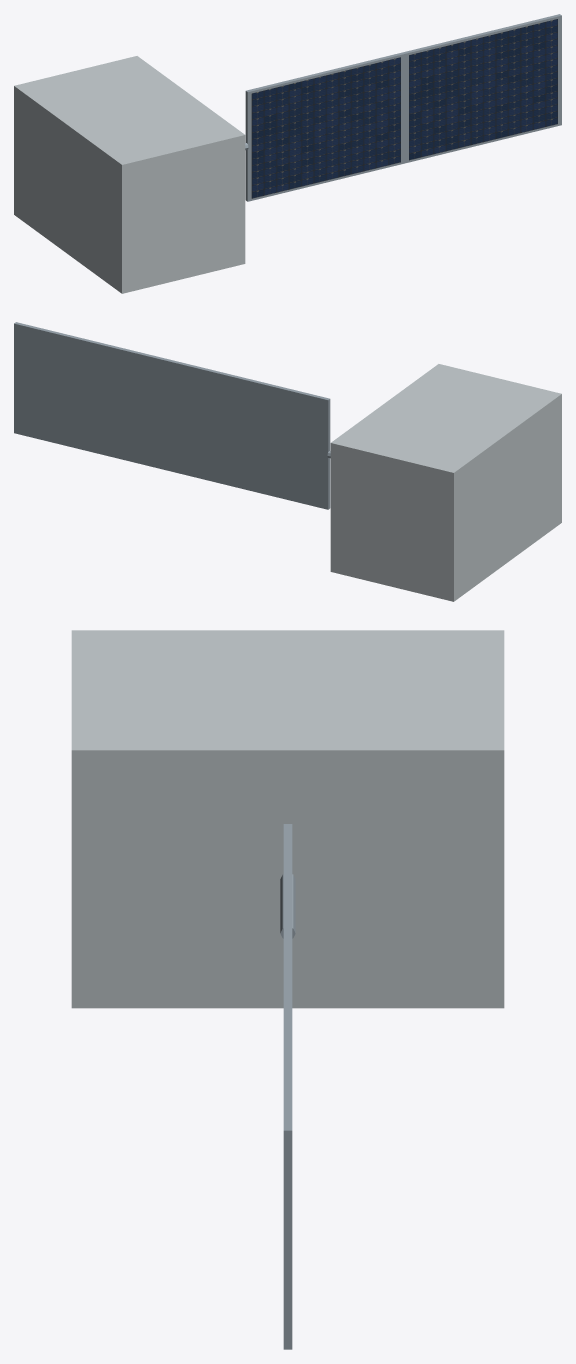
The model's file is ref-leostar-3-43613.glb.
3 renders of one model, top to bottom at view 1: azimuth 30°, elevation 25°; view 2: azimuth 150°, elevation 25°; view 3: azimuth 270°, elevation 25°, orthographic. The views are drawn at different scales.
Parts seen in each view (by area): view 1: Spacecraft body, Photovoltaic laminates (×2), Array frame (×2); view 2: Spacecraft body, Array frame (×2); view 3: Spacecraft body, Array frame (×2).
Part boxes in pixels (box(x1,y1,x2,y2)): Spacecraft body: box(14, 56, 245, 293); Photovoltaic laminates (×2): box(251, 19, 557, 198); Array frame (×2): box(245, 14, 561, 201); Spacecraft body: box(330, 364, 561, 601); Array frame (×2): box(14, 322, 330, 509); Spacecraft body: box(71, 630, 504, 1008); Array frame (×2): box(283, 824, 292, 1349).
Bounding box in the file's own units: 10 × 2.5 × 3.8.
3 materials, 1 textured.
